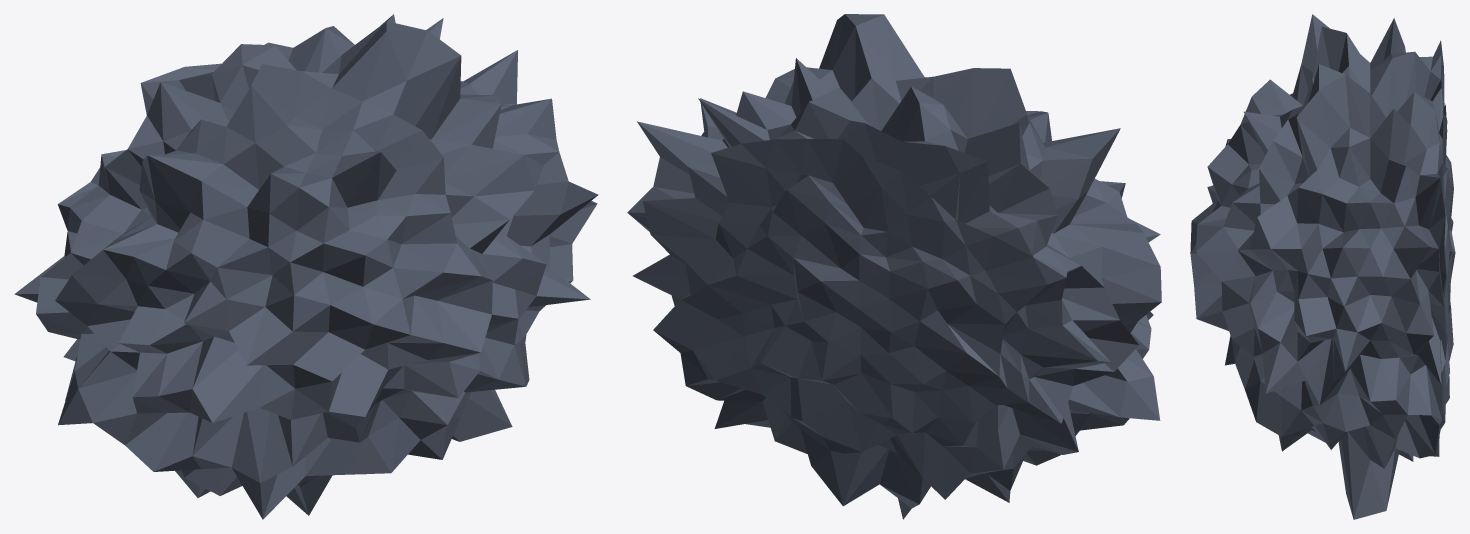
File: Akariz_Rock_Volcanic_Scorched.glb
3 views of the same model, side by side, from view 1: azimuth 30°, elevation 25°; view 2: azimuth 150°, elevation 25°; view 3: azimuth 270°, elevation 25° (orthographic). The views are drawn at different scales.
Visible parts, largest first — view 1: Akariz_Rock_Volcanic_Scorched; view 2: Akariz_Rock_Volcanic_Scorched; view 3: Akariz_Rock_Volcanic_Scorched.
Boxes of the visible parts, x1=… form: Akariz_Rock_Volcanic_Scorched: x1=14, y1=14, x2=598, y2=519; Akariz_Rock_Volcanic_Scorched: x1=627, y1=14, x2=1161, y2=519; Akariz_Rock_Volcanic_Scorched: x1=1190, y1=14, x2=1455, y2=519.
Bounding box in the file's own units: 2.9 × 2.55 × 1.41.
